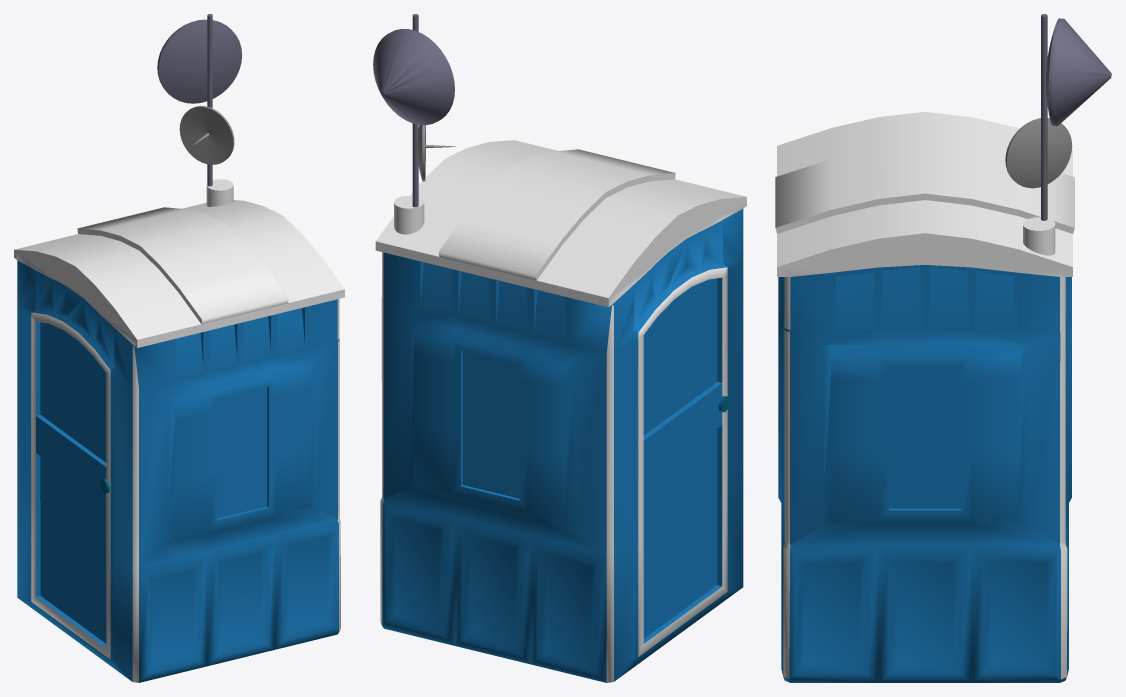
Rendered from Datenklo.fbx.
3 renders of one model, left to right at view 1: azimuth 30°, elevation 25°; view 2: azimuth 150°, elevation 25°; view 3: azimuth 270°, elevation 25°, orthographic. The views are drawn at different scales.
Parts seen in each view (by area): view 1: Datenklo__3; view 2: Datenklo__3; view 3: Datenklo__3.
Part boxes in pixels (x1=…): Datenklo__3: x1=14, y1=14, x2=344, y2=682; Datenklo__3: x1=373, y1=14, x2=746, y2=682; Datenklo__3: x1=775, y1=14, x2=1111, y2=682.
Bounding box in the file's own units: 141 × 325 × 151.
